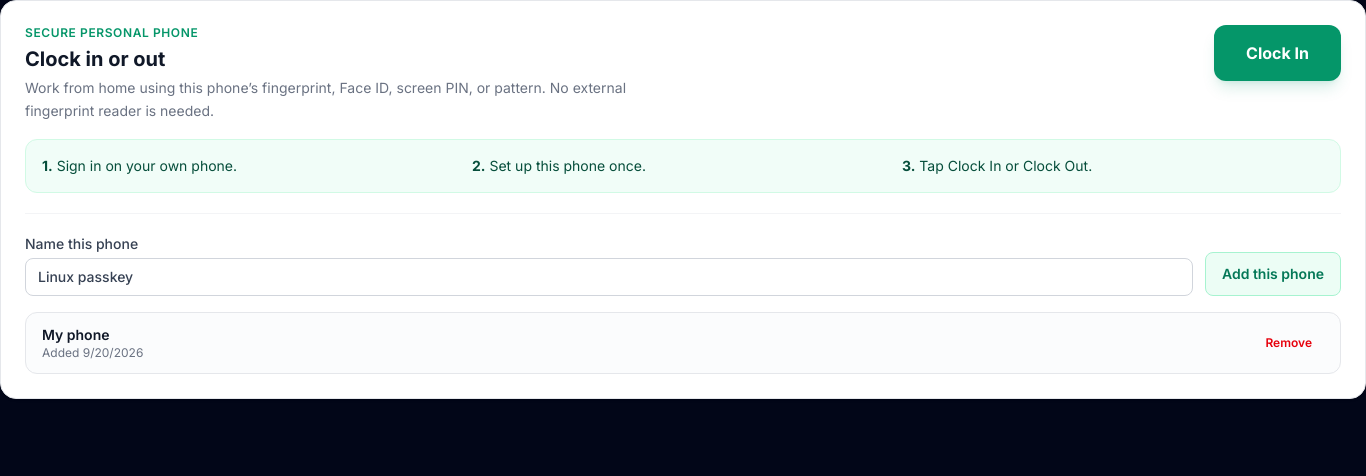
Test: personal phone clock › records nothing when phone verification is cancelled
The width and height of the screenshot is (1366, 476).
Click the button "Clock In": coordinates (1278, 53) [1214,25,1341,81]
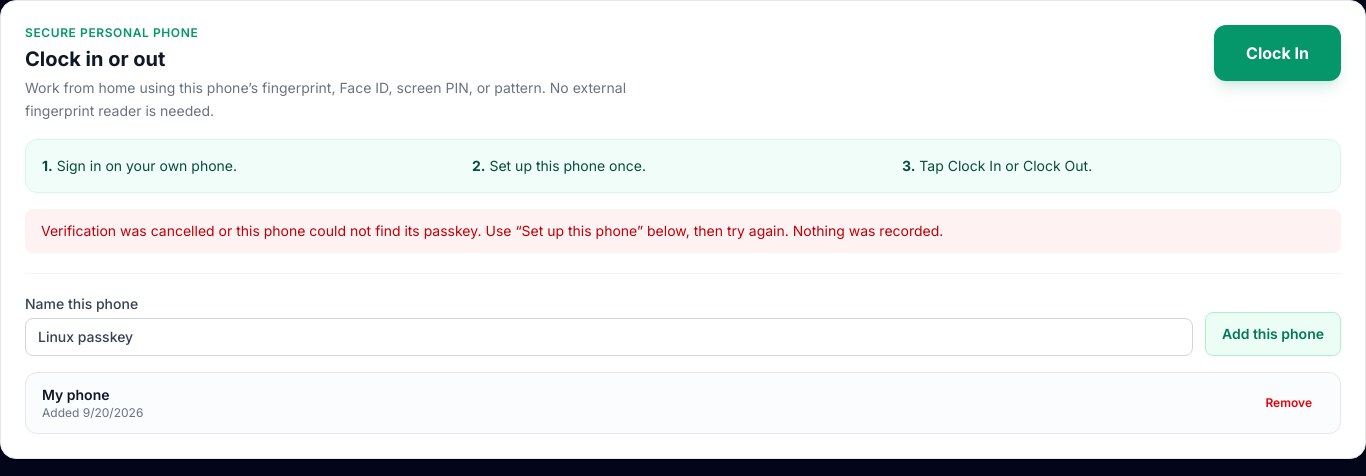
expect the text "Verification was cancelled or this phone could not find its passkey" is shown: met, box [41,222,943,238]
